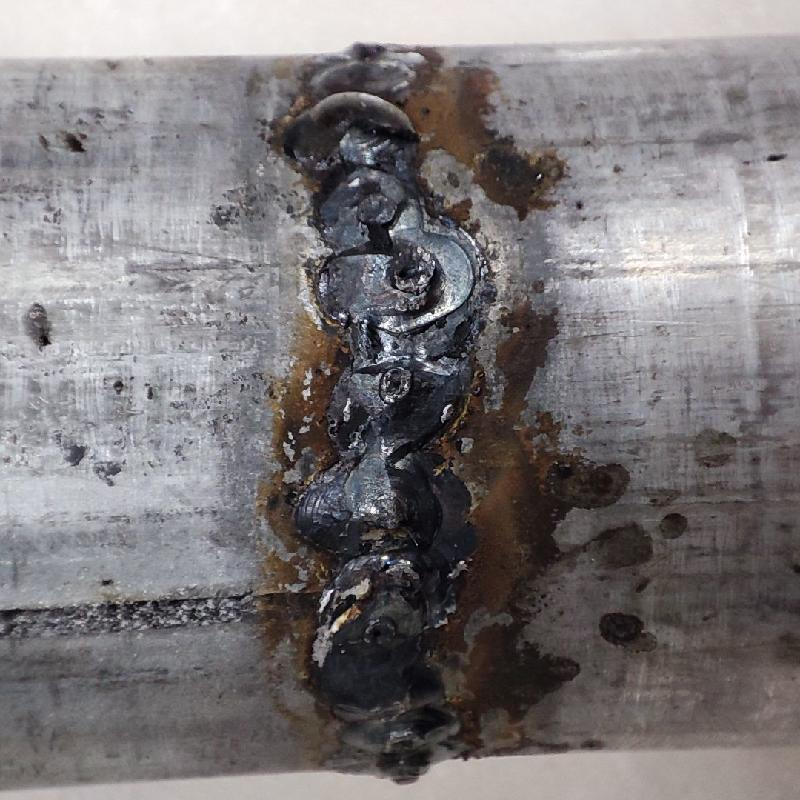Surface_pores: (377, 249, 438, 295), (361, 611, 398, 648), (378, 363, 412, 403)
Weld: (281, 95, 421, 169)
wrong_size: (281, 44, 481, 786)
